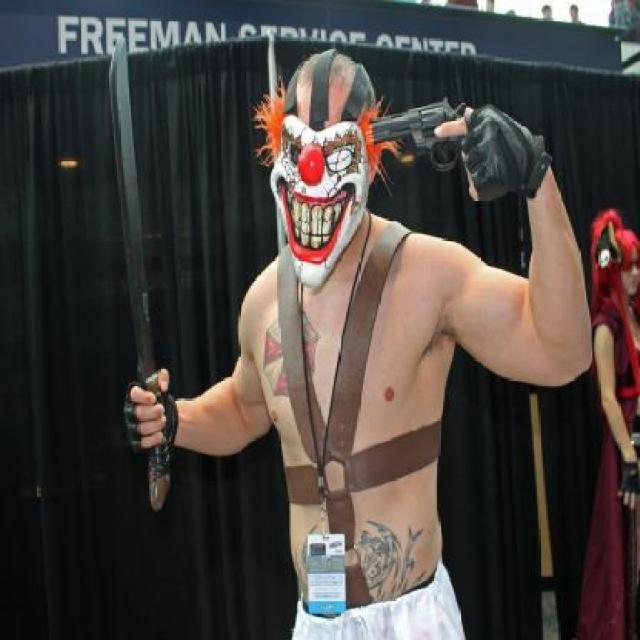fight: (90, 28, 224, 529)
